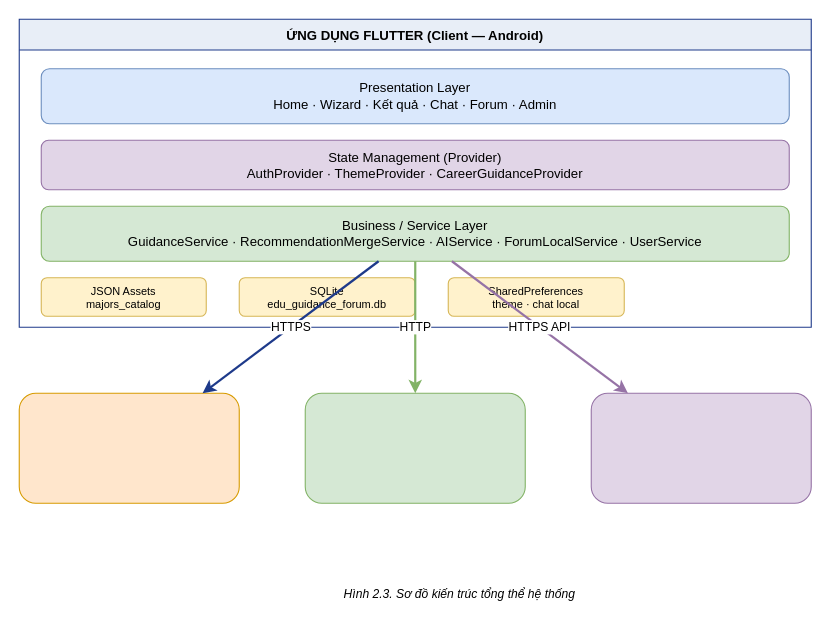
This 831x633 diagram has some shape labels left out. Each missing label, with the centre of its shape:
"FastAPI + SBERT ───────── POST /recommend major_embeddings.npy Port 8000" belongs at [414,447].
"Firebase ───────── Authentication Firestore (users, rules, forum, chat)" belongs at [128,447].
"Google Gemini ───────── Generative AI Chatbot tư vấn" belongs at [700,447].
